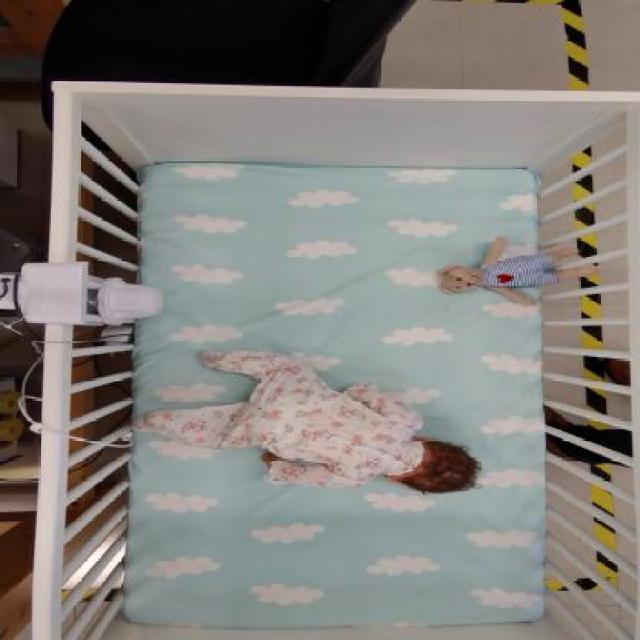baby: (132, 348, 482, 494)
